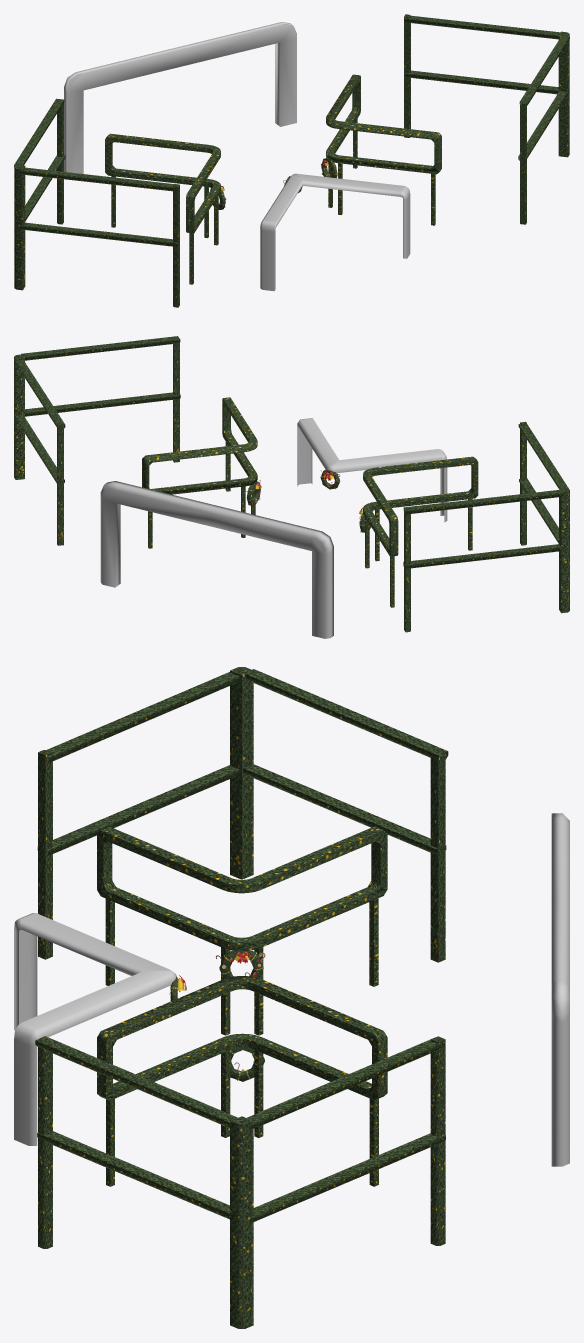
The model's file is Tree pole.fbx.
3 renders of one model, top to bottom at view 1: azimuth 30°, elevation 25°; view 2: azimuth 150°, elevation 25°; view 3: azimuth 270°, elevation 25°, orthographic. The views are drawn at different scales.
Visible parts, largest first — view 1: Tree_pole_1, tree_pole_front, tree_pole_back; view 2: Tree_pole_1, tree_pole_front, tree_pole_back; view 3: Tree_pole_1, tree_pole_back, tree_pole_front.
Part boxes in pixels (<box>): Tree_pole_1: <box>14,14,569,307</box>; tree_pole_front: <box>64,22,296,173</box>; tree_pole_back: <box>260,173,410,291</box>; Tree_pole_1: <box>14,336,569,632</box>; tree_pole_front: <box>100,481,333,638</box>; tree_pole_back: <box>297,418,447,522</box>; Tree_pole_1: <box>35,667,448,1328</box>; tree_pole_back: <box>14,913,176,1145</box>; tree_pole_front: <box>551,813,569,1166</box>.
Bounding box in the file's own units: 3312 × 700 × 1701.
